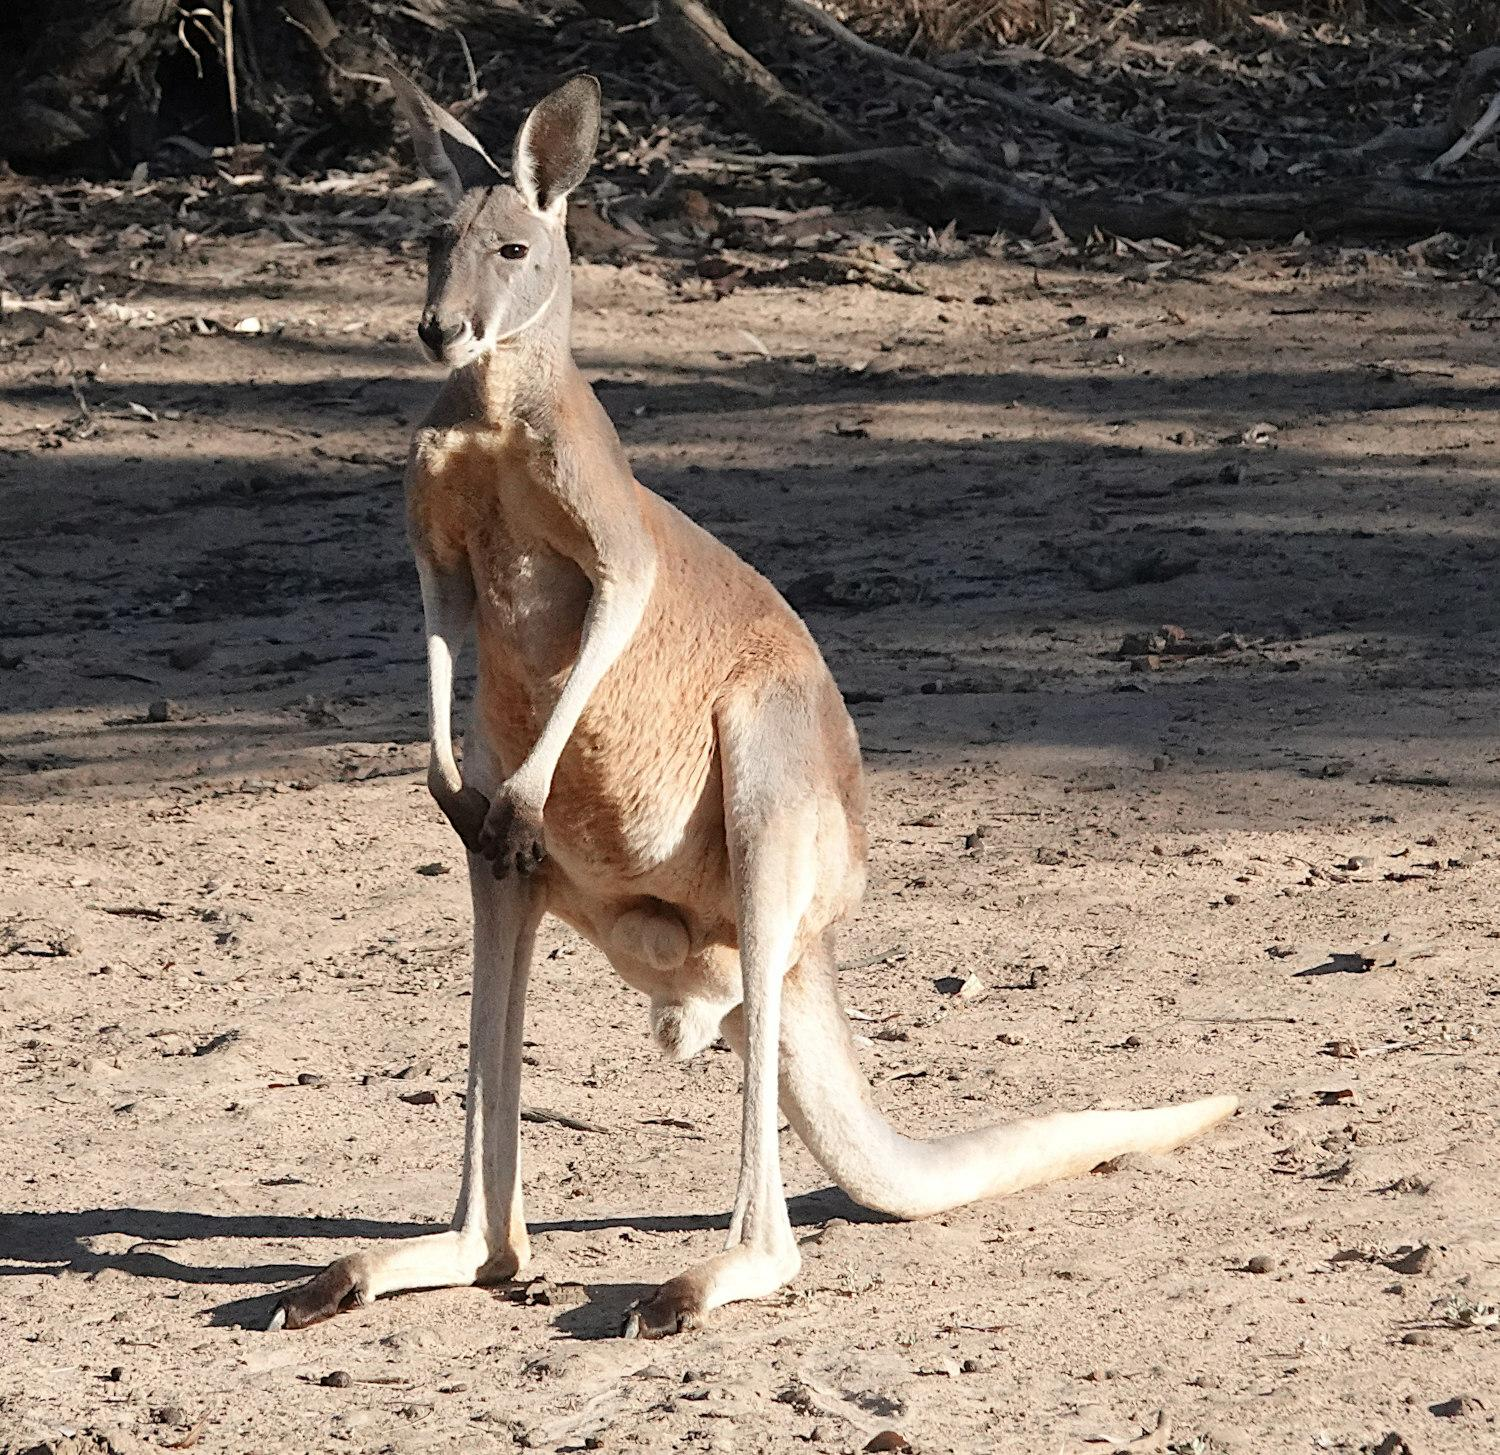Red kangaroo: (258, 60, 1250, 1348)
